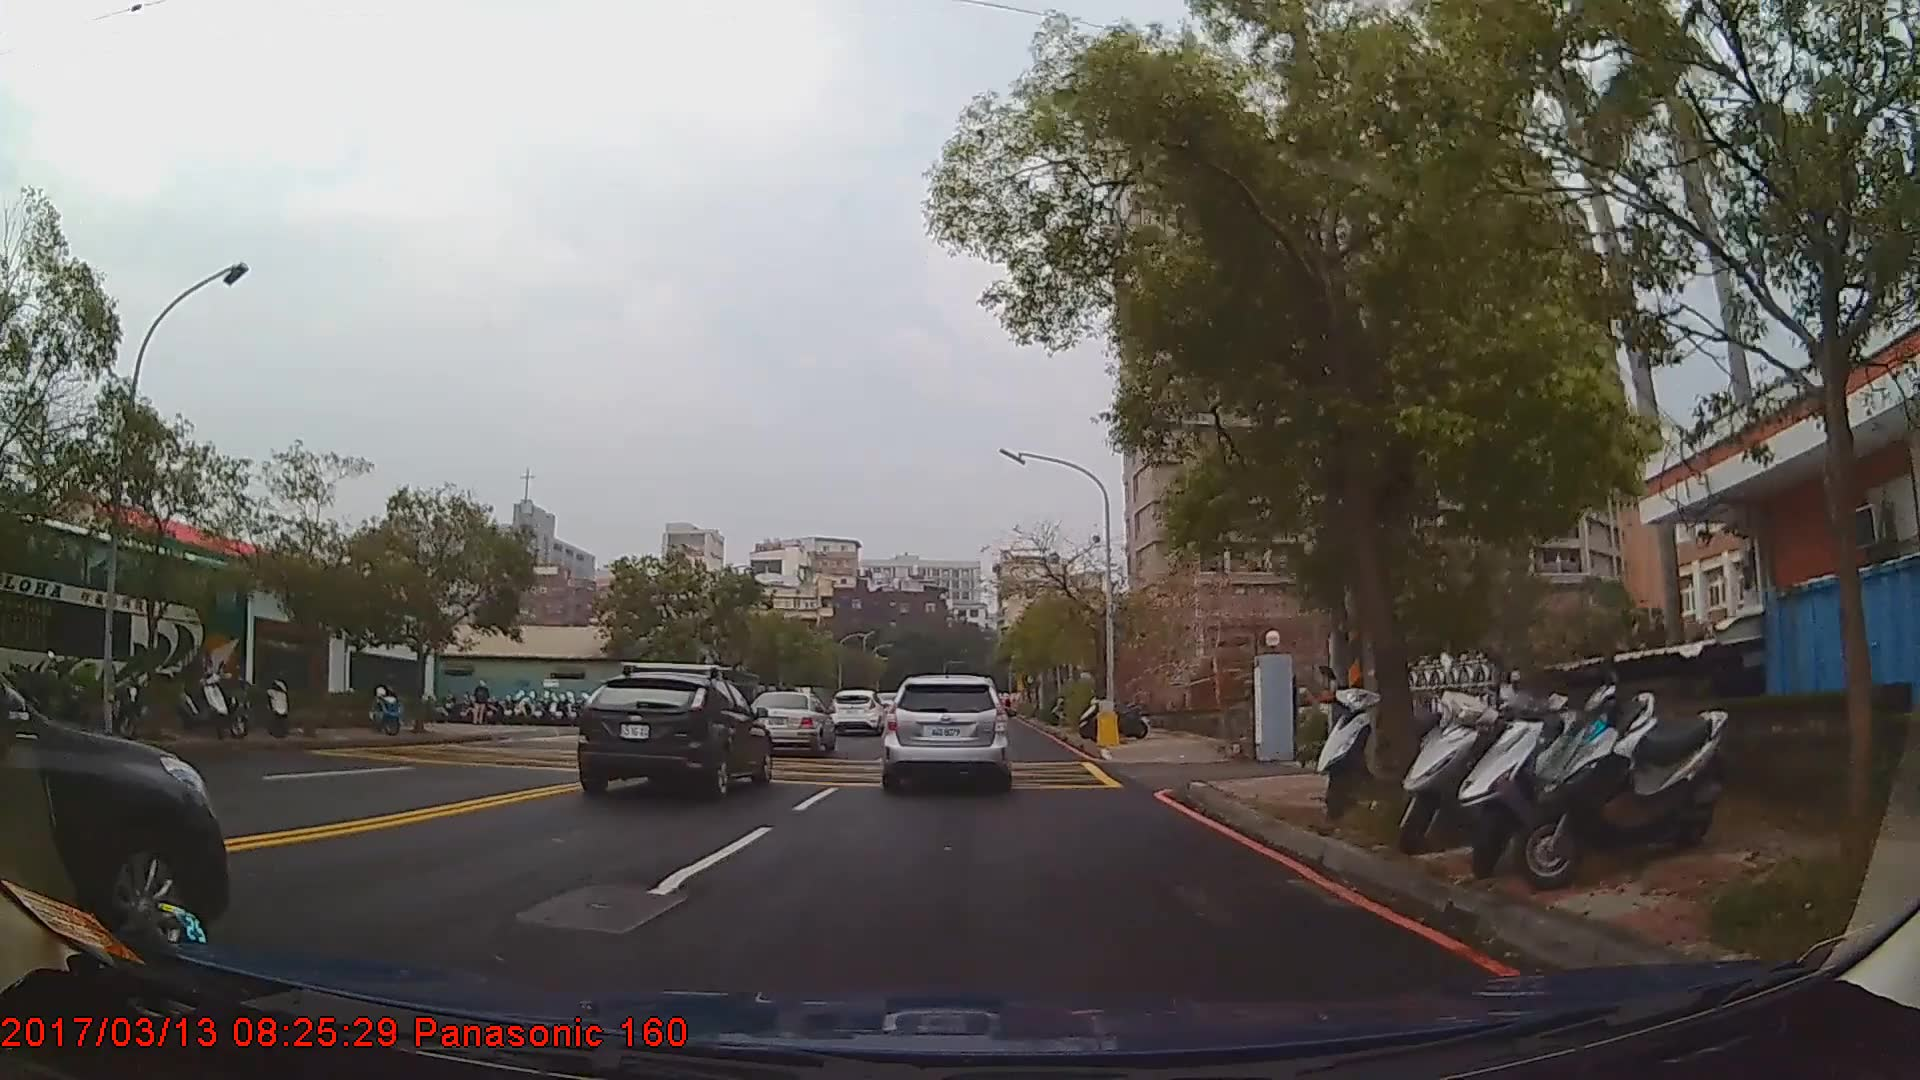pedestrian: (473, 681, 493, 726)
vehicle: (0, 664, 231, 939), (0, 499, 245, 733), (574, 668, 771, 800), (884, 673, 1008, 787), (746, 688, 834, 754), (829, 688, 886, 734)
